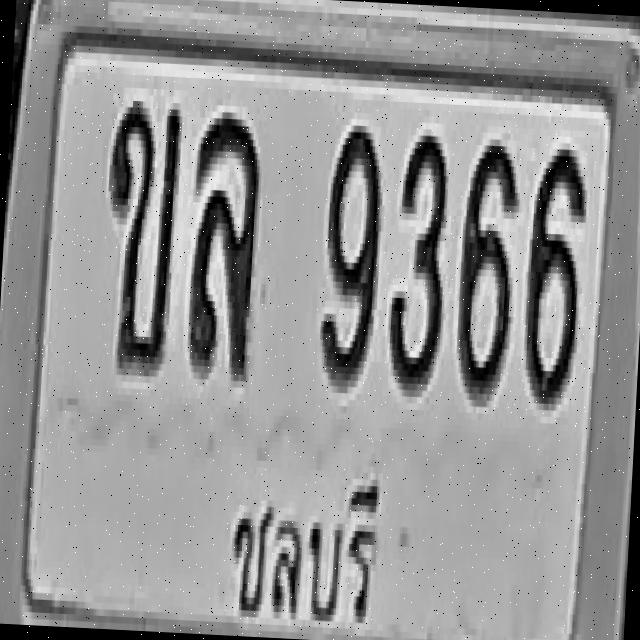11KhorKhai: (99, 96, 183, 374)
3: (384, 128, 450, 398)
45LorLing: (186, 108, 264, 378)
6: (454, 138, 520, 401), (522, 142, 588, 404)
9: (318, 121, 384, 391)
Chonburi: (215, 447, 394, 640)
